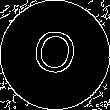O_S: (29, 26, 81, 84)
